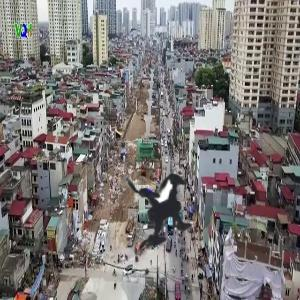drone: (86, 129, 254, 297)
